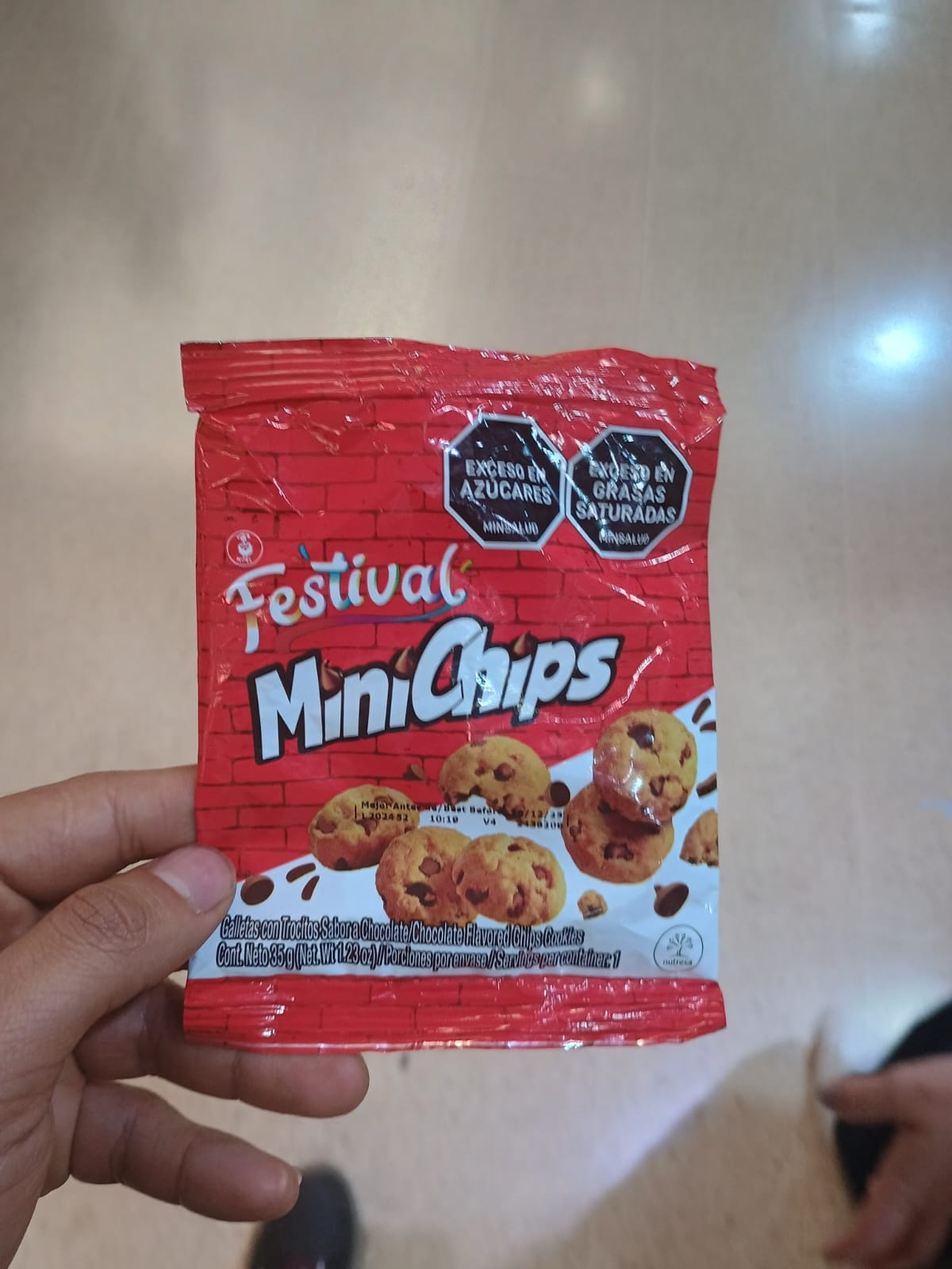Ordinario: (182, 338, 724, 1053)
